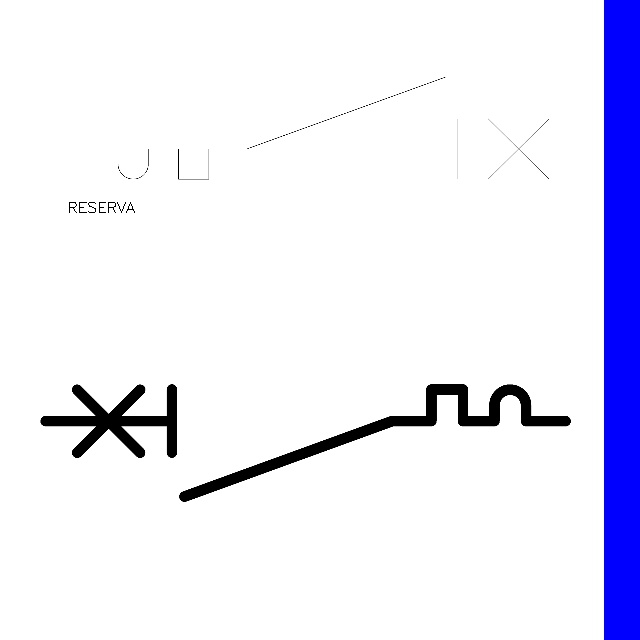interruptor_termomagnetico: (32, 376, 579, 510), (67, 64, 591, 192)
